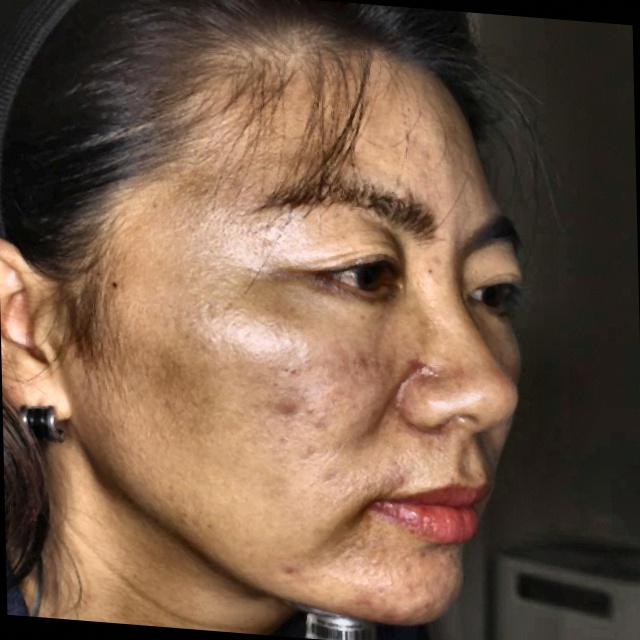comedone: (269, 390, 308, 436), (264, 563, 312, 597), (409, 358, 436, 381)
